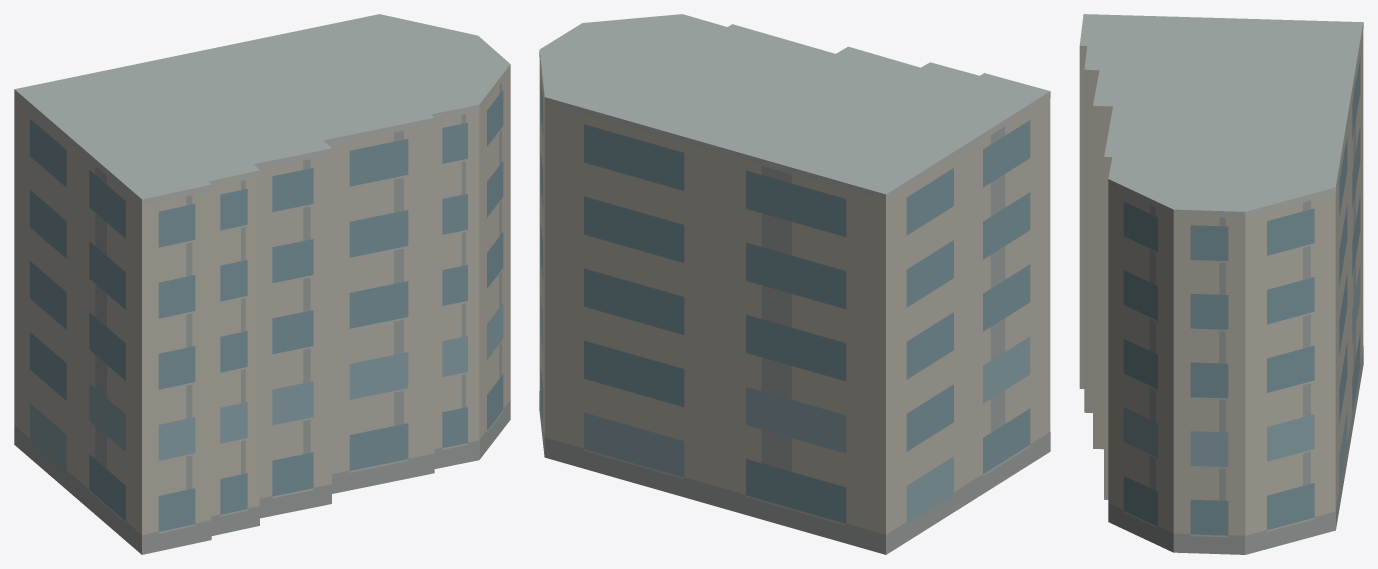
File: survey-upis-32580532.glb
The picture shows the model from 3 angles, left to right: view 1: azimuth 30°, elevation 25°; view 2: azimuth 150°, elevation 25°; view 3: azimuth 270°, elevation 25°; orthographic projection. The views are drawn at different scales.
Visible parts, largest first — view 1: survey-upis-32580532.tmp; view 2: survey-upis-32580532.tmp; view 3: survey-upis-32580532.tmp.
Part boxes in pixels (x1,y1,x2,y2): survey-upis-32580532.tmp: [14, 14, 510, 554]; survey-upis-32580532.tmp: [539, 14, 1050, 554]; survey-upis-32580532.tmp: [1079, 14, 1363, 554].
Size of the model in its own units: 16.33 by 13.2 by 9.91.
